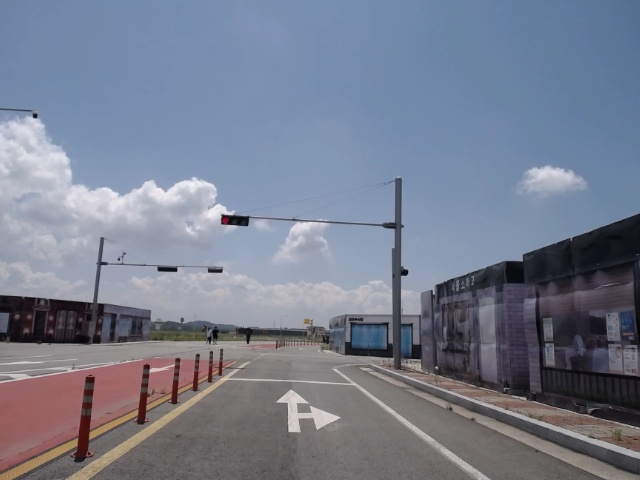red_3: (221, 213, 250, 229)
